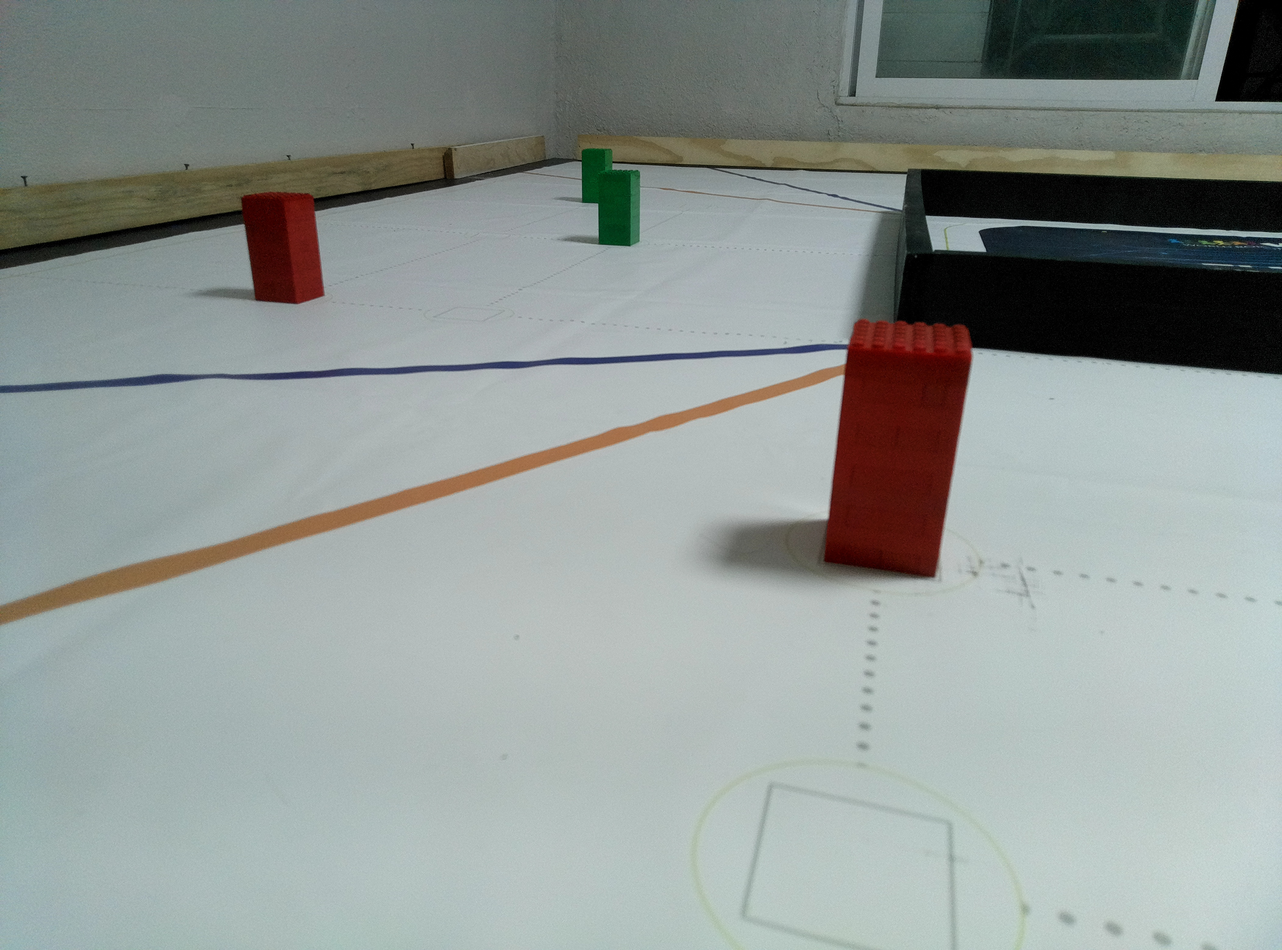greenbox: (597, 169, 640, 247), (581, 148, 614, 204)
redbox: (818, 318, 974, 580), (240, 191, 326, 304)
